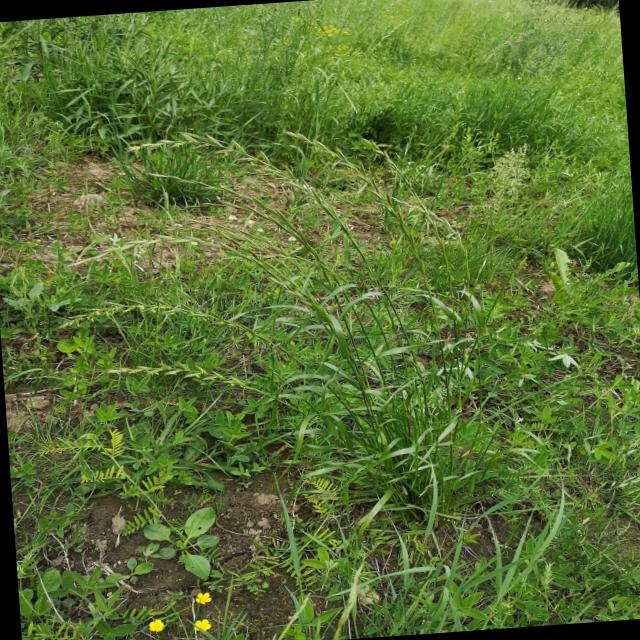Lolium: (122, 122, 354, 250), (281, 120, 434, 280), (148, 162, 310, 259), (358, 132, 448, 280), (55, 292, 244, 348), (222, 246, 368, 314), (65, 227, 250, 279), (175, 191, 311, 259), (388, 190, 469, 267), (106, 356, 250, 398), (398, 280, 480, 353), (268, 272, 330, 322), (229, 162, 313, 198), (282, 272, 330, 320), (362, 0, 414, 31), (587, 469, 640, 496), (378, 15, 416, 41), (540, 561, 563, 588), (603, 444, 626, 471), (410, 358, 424, 384), (626, 437, 640, 452)
